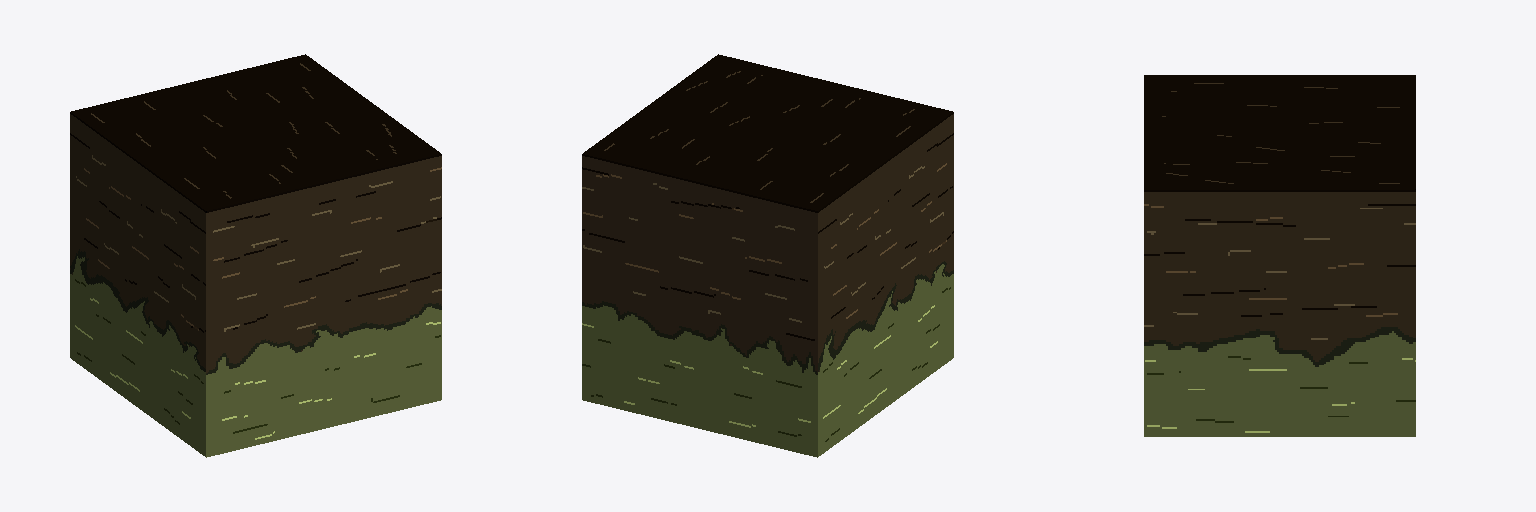
The picture shows the model from 3 angles: view 1: azimuth 30°, elevation 25°; view 2: azimuth 150°, elevation 25°; view 3: azimuth 270°, elevation 25°; orthographic projection.
Visible parts, largest first — view 1: obj1_mat0; view 2: obj1_mat0; view 3: obj1_mat0.
Boxes of the visible parts, box(x1,y1,x2,y2) form: obj1_mat0: box(70, 54, 441, 457); obj1_mat0: box(582, 54, 953, 457); obj1_mat0: box(1144, 75, 1415, 436).
Size of the model in its own units: 200 by 200 by 200.
1 materials, 1 textured.